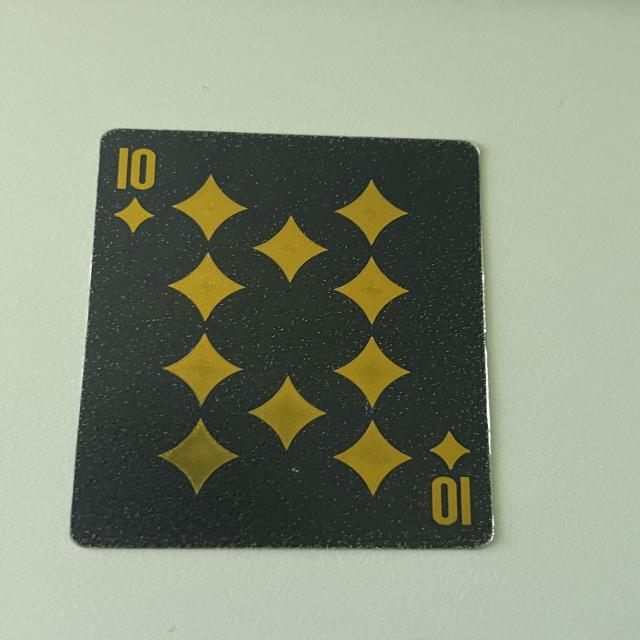10D: (421, 427, 482, 535), (109, 143, 162, 236)
